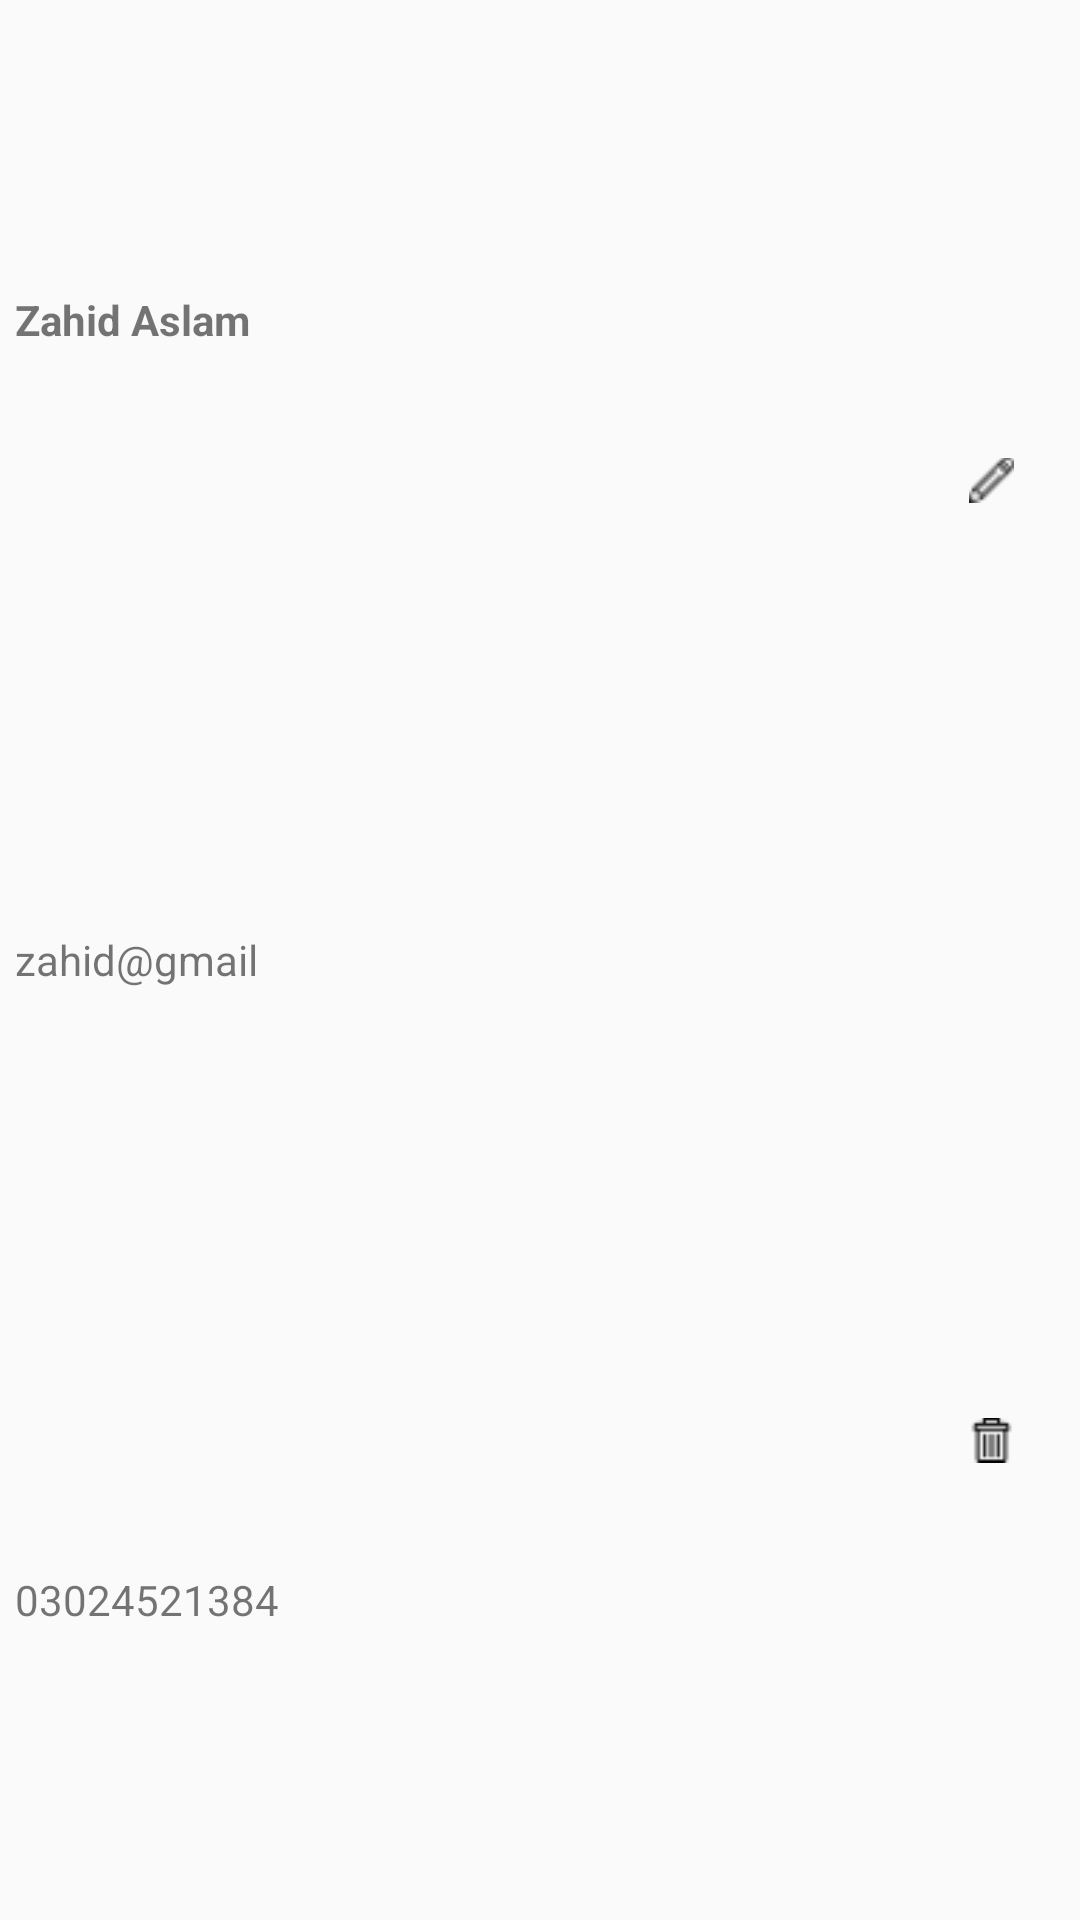

Locate icon controls on the screen. Image size 1080×1920, boxes as (x1, y1, x2, y2).
clear: (971, 1418, 1012, 1463)
pencil: (969, 458, 1014, 503)
